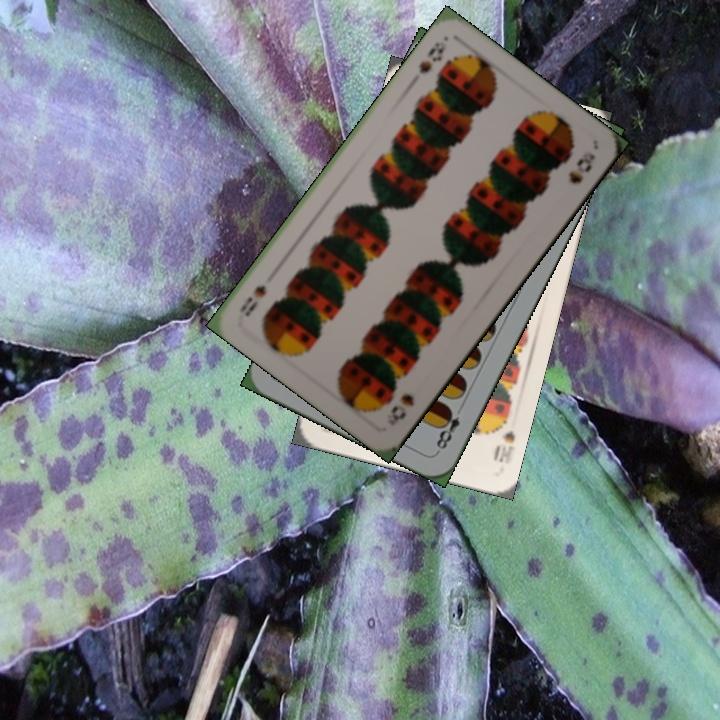E8: (432, 403, 463, 455)
S10: (489, 411, 518, 467)
S8: (415, 37, 449, 76), (386, 389, 417, 424)
